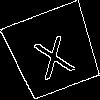X: (28, 26, 77, 81)
